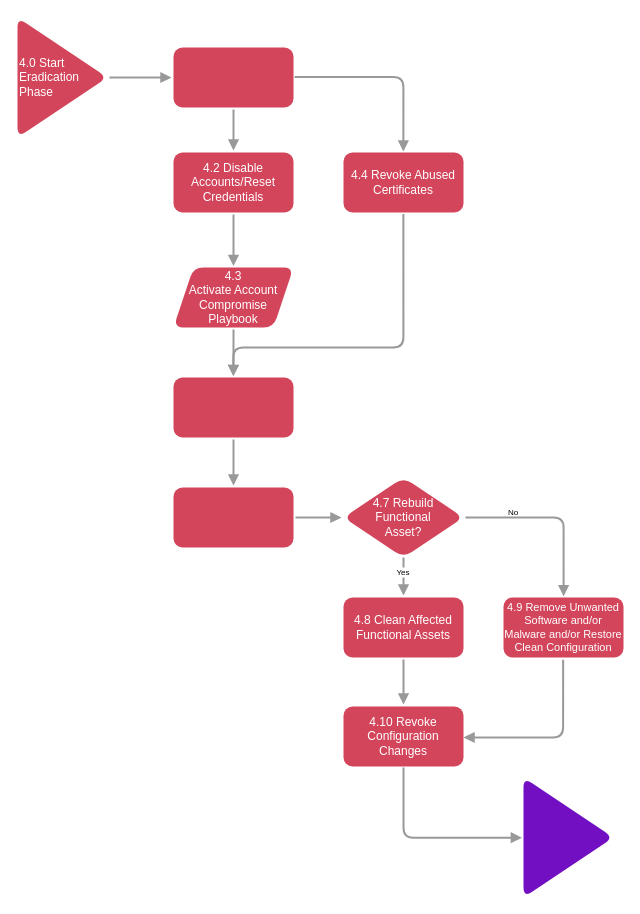
Some shapes in this 640 by 914 pixel diagram are drawn without their labels. Here are the shapes that lost their labels. From the top down, the centre of each, then its label:
At pixel 233 77: "4.1 Deny Attacker Access".
At pixel 233 407: "4.5 Determine, Store, and Apply Relevant IOCs".
At pixel 233 517: "4.6 Improve Defences".
At pixel 568 837: "5.0 Start Recovery Phase".
